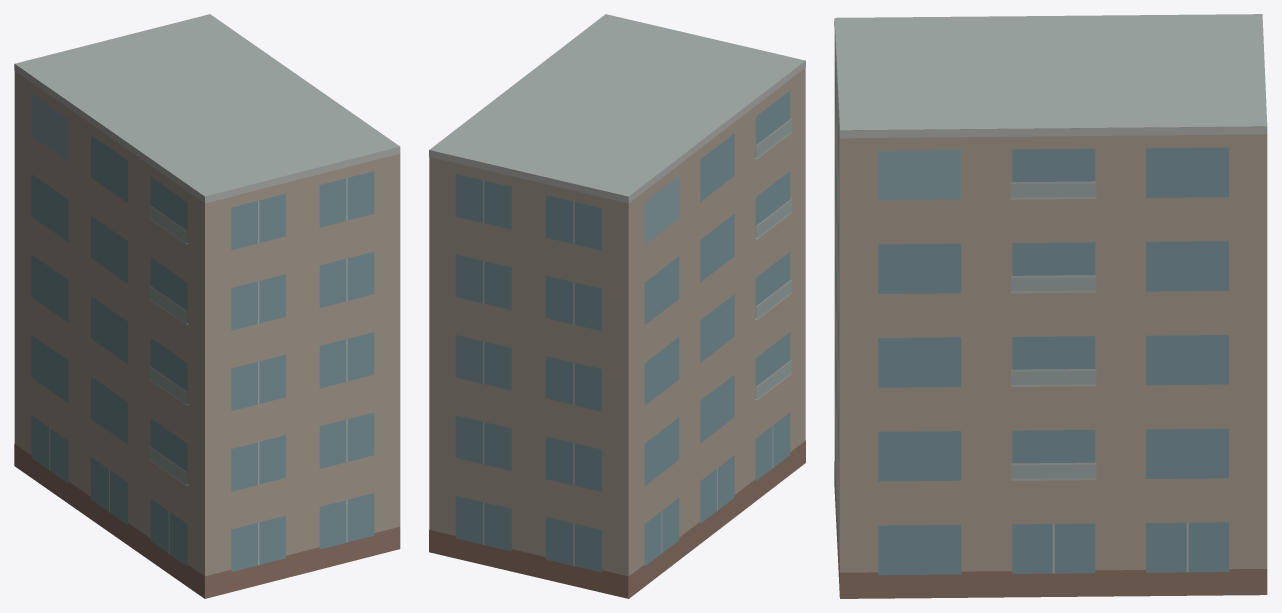
Rendered from survey-upis-32984554.glb.
3 renders of one model, left to right at view 1: azimuth 30°, elevation 25°; view 2: azimuth 150°, elevation 25°; view 3: azimuth 270°, elevation 25°, orthographic. The views are drawn at different scales.
Parts seen in each view (by area): view 1: survey-upis-32984554.tmp; view 2: survey-upis-32984554.tmp; view 3: survey-upis-32984554.tmp.
Part boxes in pixels (x1,y1,x2,y2): survey-upis-32984554.tmp: [14, 14, 400, 598]; survey-upis-32984554.tmp: [429, 14, 805, 598]; survey-upis-32984554.tmp: [834, 14, 1267, 598].
Bounding box in the file's own units: 7.56 × 14.2 × 11.89.
